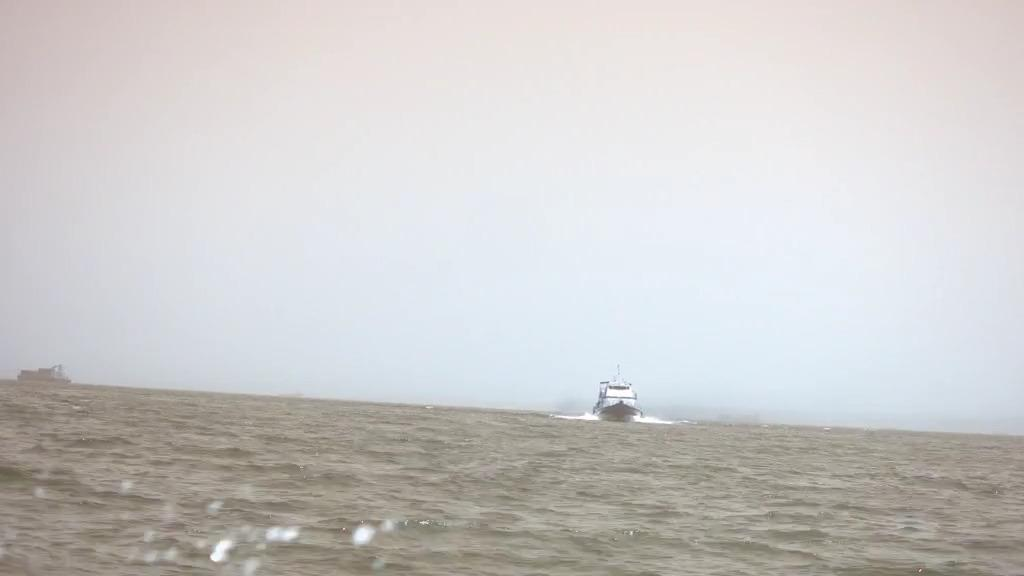PassengerShip: (590, 363, 646, 427)
